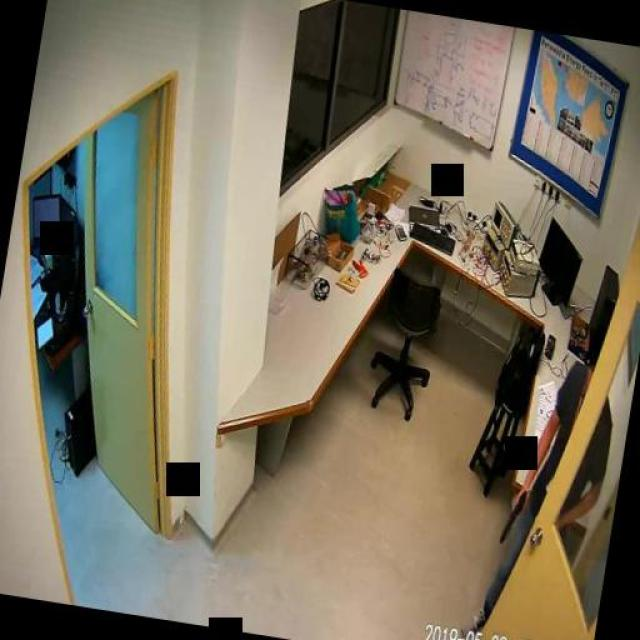gun: (496, 486, 525, 546)
